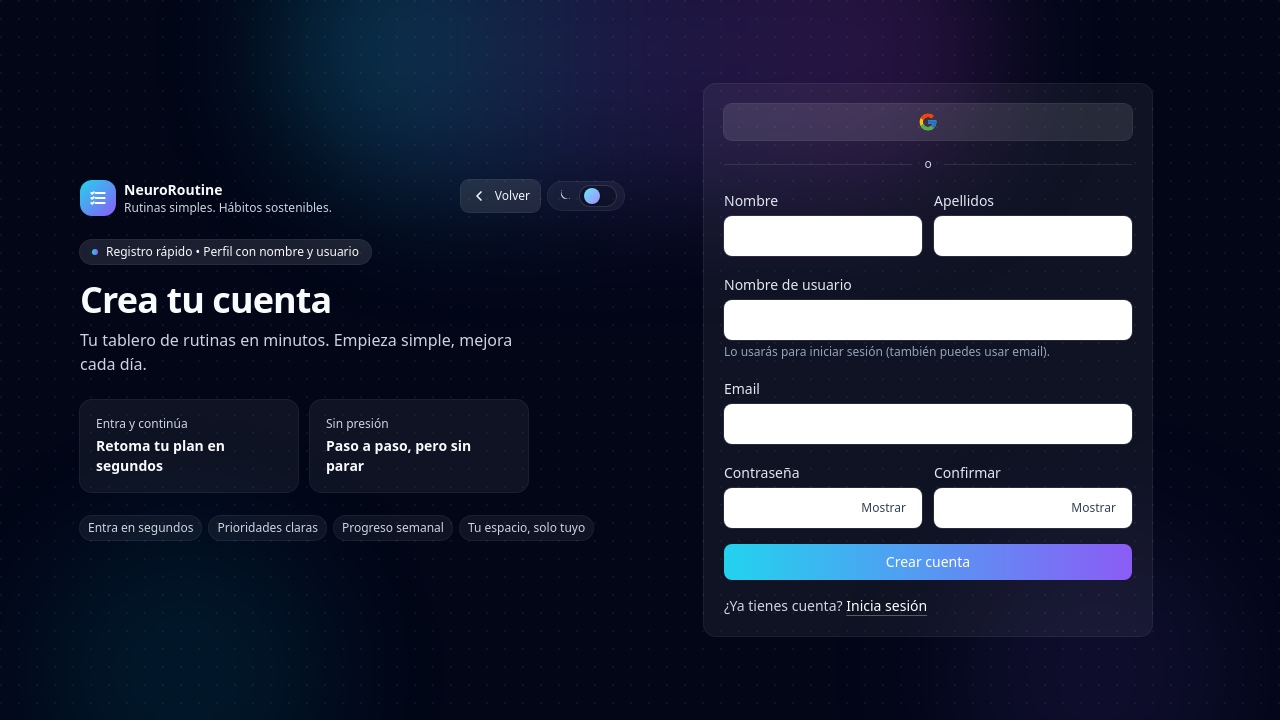
RegisterPage › shows a generic error message when Google sign-in fails with a non-Error value
The width and height of the screenshot is (1280, 720).
Click the button named "Continuar con Google" at x=928, y=122, box [724,104,1132,140]
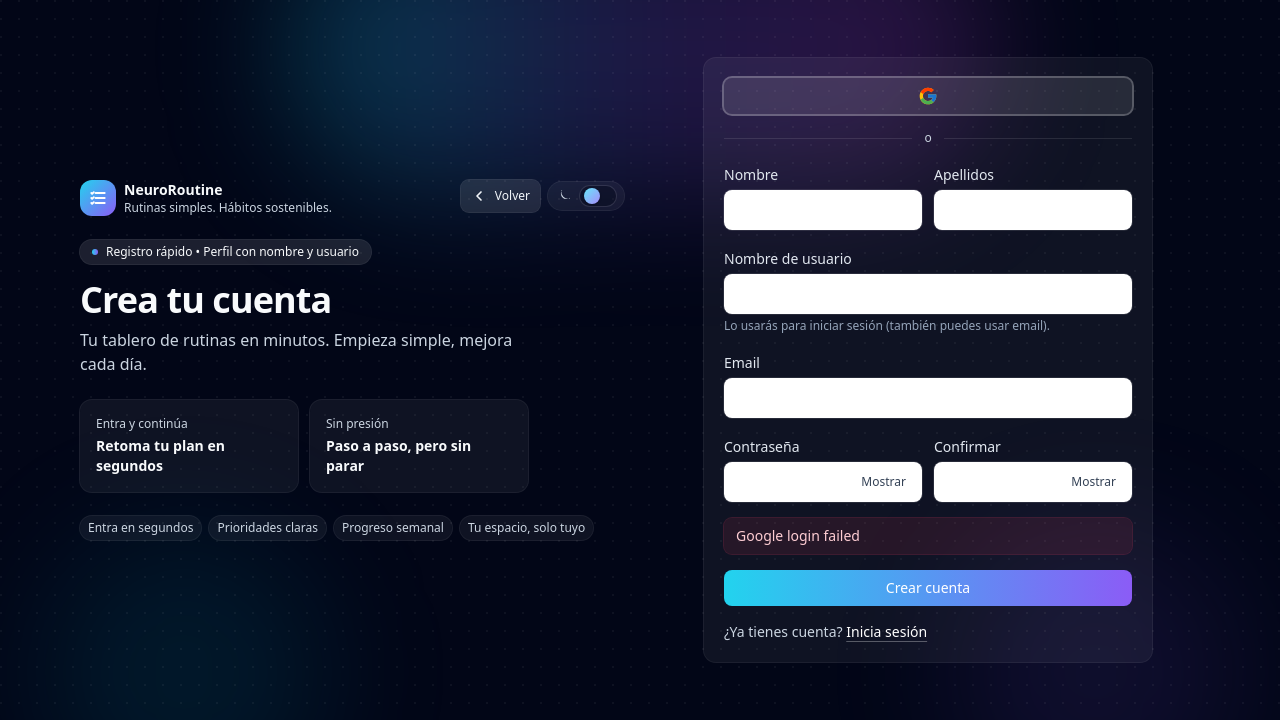
Now the text "Google login failed" is shown, box [724,518,1132,554]
